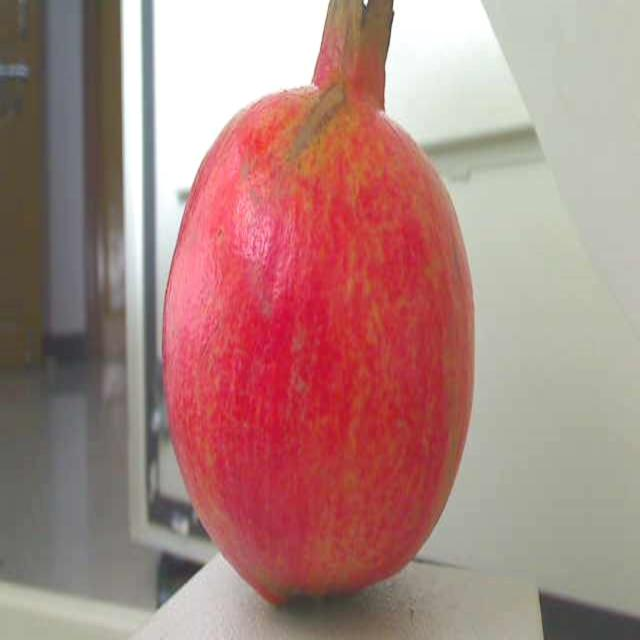pomegranate: (151, 0, 506, 614)
